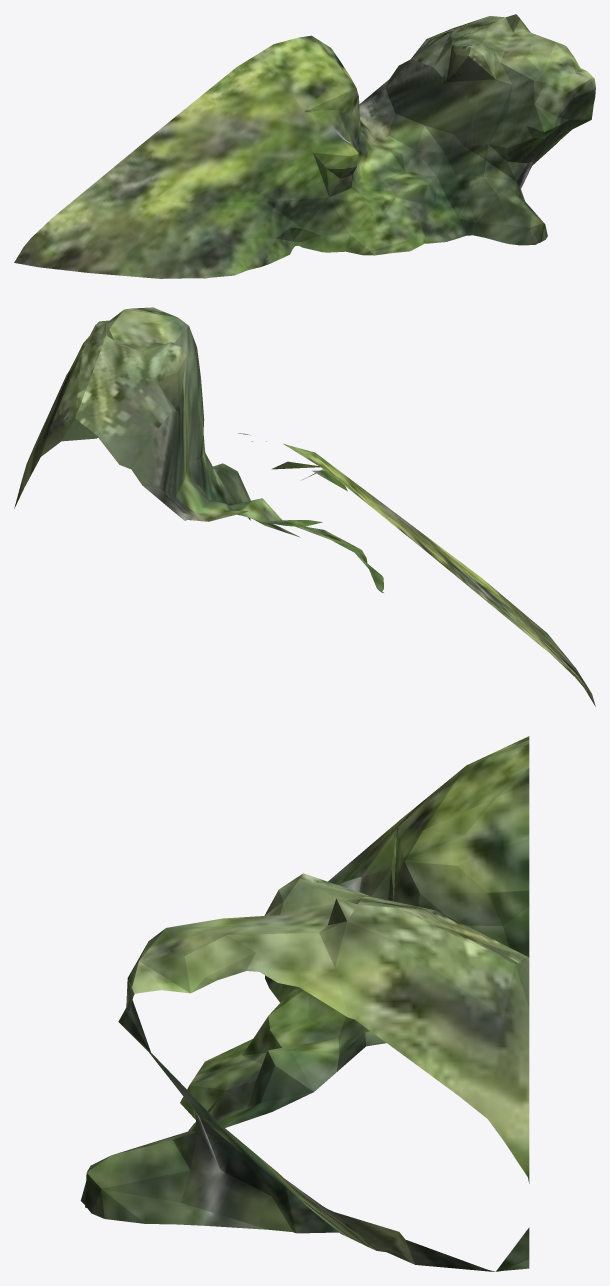
3 renders of one model, top to bottom at view 1: azimuth 30°, elevation 25°; view 2: azimuth 150°, elevation 25°; view 3: azimuth 270°, elevation 25°, orthographic. The views are drawn at different scales.
Size of the model in its own units: 20.47 by 7.03 by 8.25.
1 material, 1 textured.
